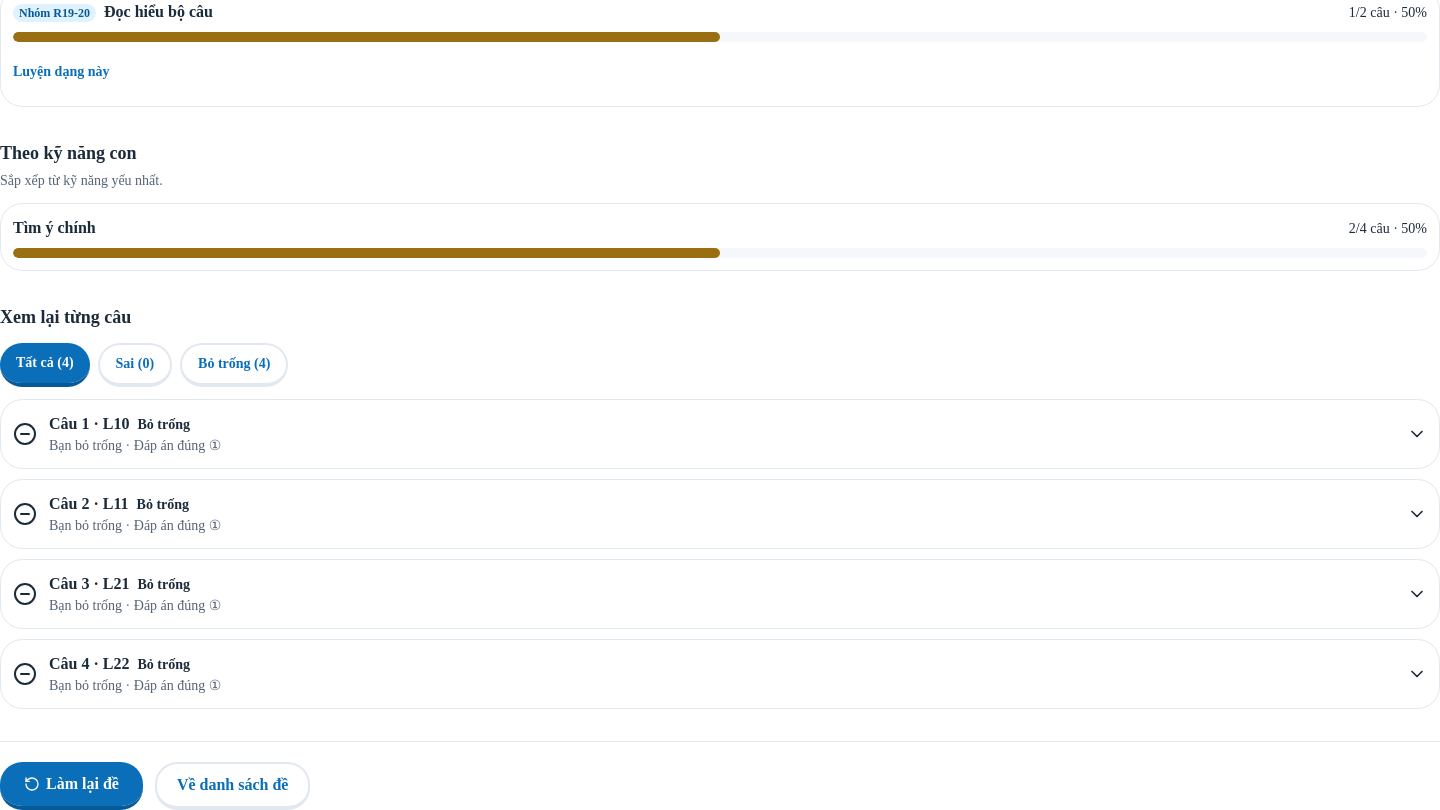
Test: ExamResultView: xem lại câu Nghe › chưa có audio: hiện lời thoại tiếng Hàn kèm bản dịch dưới từng lượt, ghi chú trung tính
(page scrolled)
What coordinates should you click on to do the following:
click the button "Câu 1 · L10Bỏ trống Bạn bỏ trống · Đáp án đúng ①"
I would click on:
 (89, 424)
Its box is 1,400 -> 1439,468.
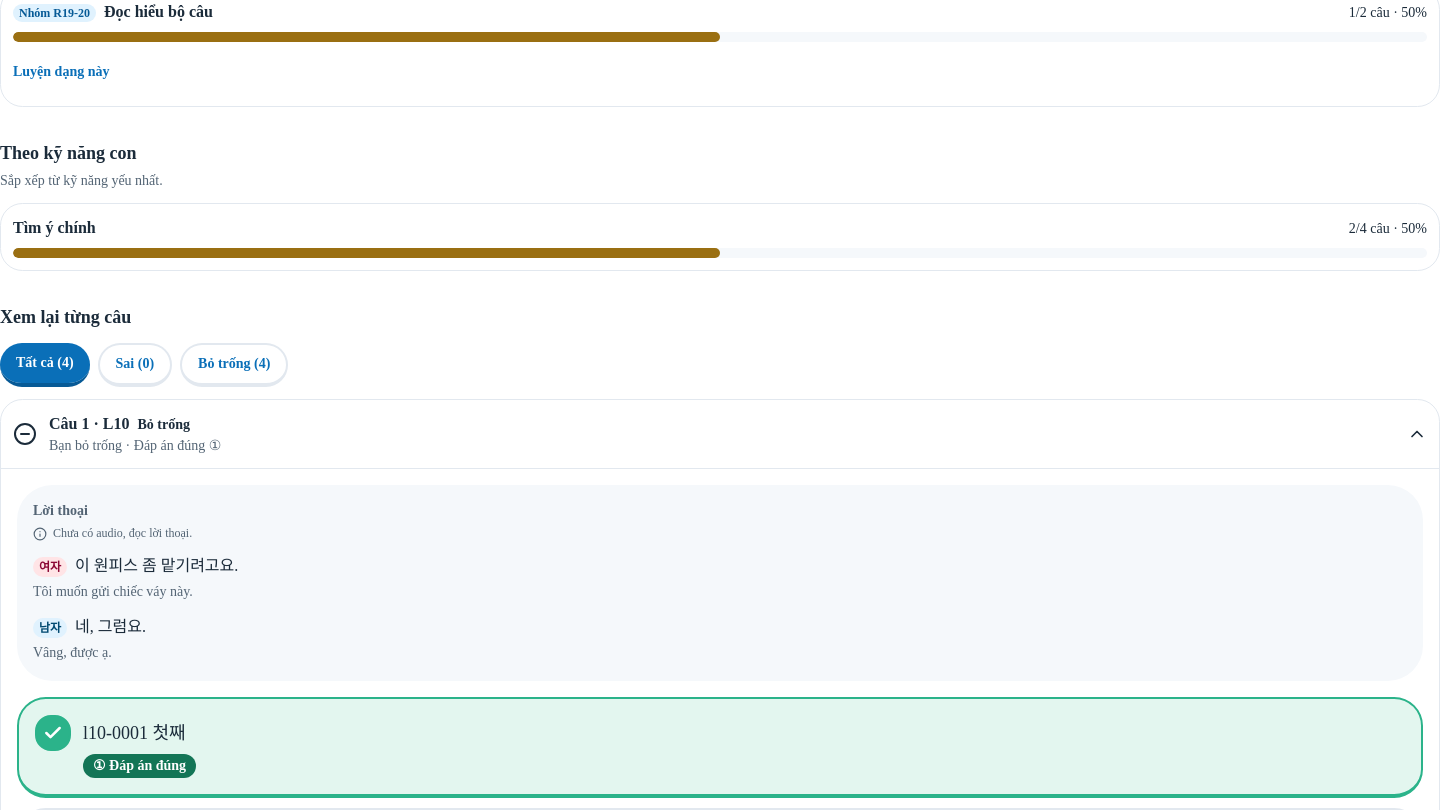
Expected: the text "이 원피스 좀 맡기려고요." is shown, 75,553 -> 238,579
Expected: the text "Tôi muốn gửi chiếc váy này." is shown, 33,584 -> 193,599
Expected: the text "Vâng, được ạ." is shown, 33,645 -> 112,660
